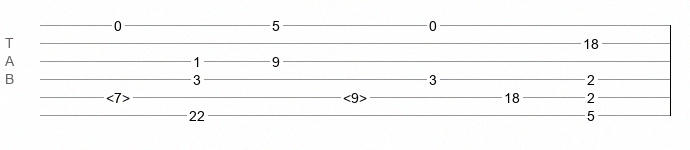0: (114, 18, 122, 28), (429, 18, 437, 28)
1: (193, 54, 201, 64)
18: (504, 90, 520, 100), (583, 36, 599, 46)
2: (587, 90, 595, 100), (587, 72, 595, 82)
22: (189, 108, 205, 118)
3: (193, 72, 201, 82), (429, 72, 437, 82)
5: (272, 18, 280, 28), (587, 108, 595, 118)
9: (272, 54, 280, 64)
harmonic: (106, 90, 130, 100), (343, 90, 367, 100)
